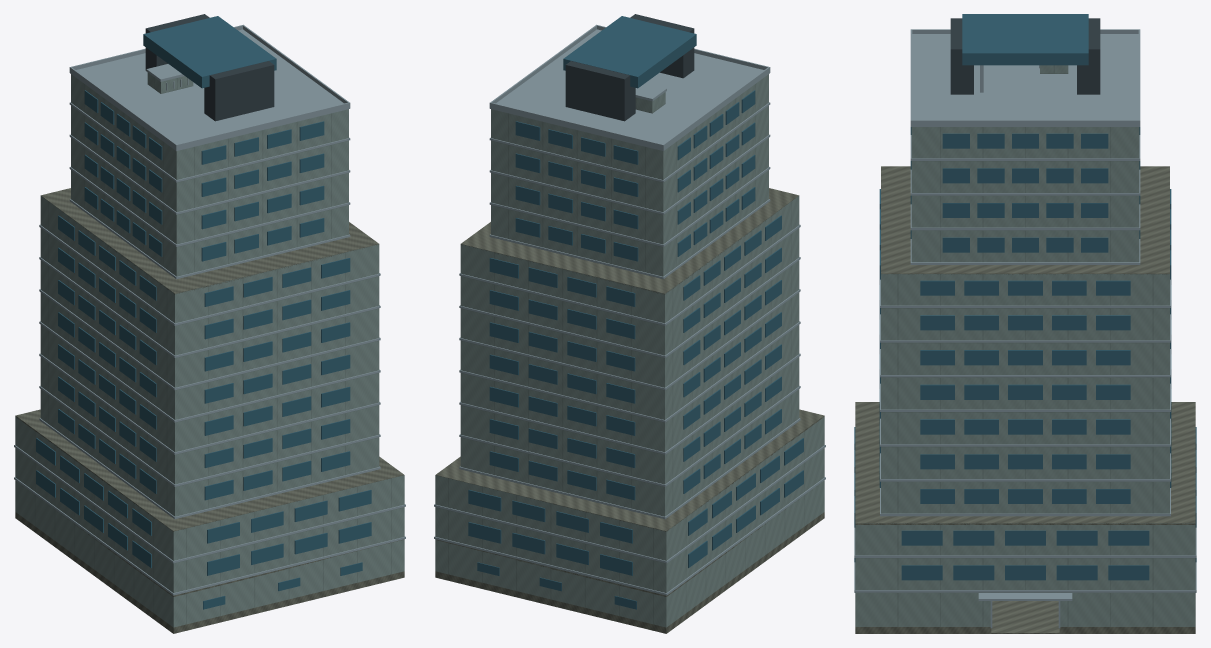
Rendered from Metro_CivicCommerce.glb.
The picture shows the model from 3 angles, left to right: view 1: azimuth 30°, elevation 25°; view 2: azimuth 150°, elevation 25°; view 3: azimuth 270°, elevation 25°; orthographic projection. The views are drawn at different scales.
Parts seen in each view (by area): view 1: Metro_CivicCommerce_GroundShell, Metro_CivicCommerce_Roof, Metro_CivicCommerce_RoofServiceBridge, Metro_CivicCommerce_Upper1_Shell_F2, Metro_CivicCommerce_Upper1_Shell_F1, Metro_CivicCommerce_Upper2_Shell_F4, Metro_CivicCommerce_Upper2_Shell_F3, Metro_CivicCommerce_Upper2_Shell_F6, Metro_CivicCommerce_Upper2_Shell_F5, Metro_CivicCommerce_Upper2_Shell_F2, Metro_CivicCommerce_Upper2_Shell_F7, Metro_CivicCommerce_Upper2_Shell_F1 (+48 smaller); view 2: Metro_CivicCommerce_GroundShell, Metro_CivicCommerce_Roof, Metro_CivicCommerce_RoofServiceBridge, Metro_CivicCommerce_Upper1_Shell_F2, Metro_CivicCommerce_Upper1_Shell_F1, Metro_CivicCommerce_Upper2_Shell_F4, Metro_CivicCommerce_Upper2_Shell_F3, Metro_CivicCommerce_Upper2_Shell_F6, Metro_CivicCommerce_Upper2_Shell_F5, Metro_CivicCommerce_Upper2_Shell_F2, Metro_CivicCommerce_Upper2_Shell_F7, Metro_CivicCommerce_Upper2_Shell_F1 (+49 smaller); view 3: Metro_CivicCommerce_Roof, Metro_CivicCommerce_RoofServiceBridge, Metro_CivicCommerce_GroundShell, Metro_CivicCommerce_TerraceDeck_3, Metro_CivicCommerce_TerraceDeck_10, Metro_CivicCommerce_Upper1_Shell_F1, Metro_CivicCommerce_Upper1_Shell_F2, Metro_CivicCommerce_Upper2_Shell_F3, Metro_CivicCommerce_Upper2_Shell_F6, Metro_CivicCommerce_Upper2_Shell_F2, Metro_CivicCommerce_Upper2_Shell_F7, Metro_CivicCommerce_Upper2_Shell_F4 (+35 smaller).
Boxes of the visible parts, x1,y1,x2,y2 form: Metro_CivicCommerce_GroundShell: [15, 480, 404, 627]; Metro_CivicCommerce_Roof: [69, 24, 350, 150]; Metro_CivicCommerce_RoofServiceBridge: [143, 14, 276, 121]; Metro_CivicCommerce_Upper1_Shell_F2: [15, 416, 404, 563]; Metro_CivicCommerce_Upper1_Shell_F1: [15, 448, 404, 592]; Metro_CivicCommerce_Upper2_Shell_F4: [40, 292, 379, 422]; Metro_CivicCommerce_Upper2_Shell_F3: [40, 325, 379, 454]; Metro_CivicCommerce_Upper2_Shell_F6: [40, 228, 379, 358]; Metro_CivicCommerce_Upper2_Shell_F5: [40, 260, 379, 390]; Metro_CivicCommerce_Upper2_Shell_F2: [40, 357, 379, 487]; Metro_CivicCommerce_Upper2_Shell_F7: [40, 196, 379, 325]; Metro_CivicCommerce_Upper2_Shell_F1: [40, 389, 379, 516]; Metro_CivicCommerce_GroundShell: [435, 480, 824, 627]; Metro_CivicCommerce_Roof: [489, 24, 770, 150]; Metro_CivicCommerce_RoofServiceBridge: [563, 14, 696, 121]; Metro_CivicCommerce_Upper1_Shell_F2: [435, 416, 824, 563]; Metro_CivicCommerce_Upper1_Shell_F1: [435, 448, 824, 592]; Metro_CivicCommerce_Upper2_Shell_F4: [460, 292, 799, 422]; Metro_CivicCommerce_Upper2_Shell_F3: [460, 325, 799, 454]; Metro_CivicCommerce_Upper2_Shell_F6: [460, 228, 799, 358]; Metro_CivicCommerce_Upper2_Shell_F5: [460, 260, 799, 390]; Metro_CivicCommerce_Upper2_Shell_F2: [460, 357, 799, 487]; Metro_CivicCommerce_Upper2_Shell_F7: [460, 196, 799, 325]; Metro_CivicCommerce_Upper2_Shell_F1: [460, 389, 799, 516]; Metro_CivicCommerce_Roof: [910, 29, 1140, 126]; Metro_CivicCommerce_RoofServiceBridge: [950, 14, 1100, 94]; Metro_CivicCommerce_GroundShell: [855, 593, 1195, 626]; Metro_CivicCommerce_TerraceDeck_3: [855, 402, 1195, 524]; Metro_CivicCommerce_TerraceDeck_10: [881, 166, 1169, 274]; Metro_CivicCommerce_Upper1_Shell_F1: [855, 558, 1195, 592]; Metro_CivicCommerce_Upper1_Shell_F2: [855, 523, 1195, 558]; Metro_CivicCommerce_Upper2_Shell_F3: [881, 412, 1169, 447]; Metro_CivicCommerce_Upper2_Shell_F6: [881, 308, 1169, 343]; Metro_CivicCommerce_Upper2_Shell_F2: [881, 447, 1169, 481]; Metro_CivicCommerce_Upper2_Shell_F7: [881, 274, 1169, 308]; Metro_CivicCommerce_Upper2_Shell_F4: [881, 378, 1169, 412].
Size of the model in its own units: 28.45 by 56.02 by 32.21.
Materials: 7 (2 with a texture image).
